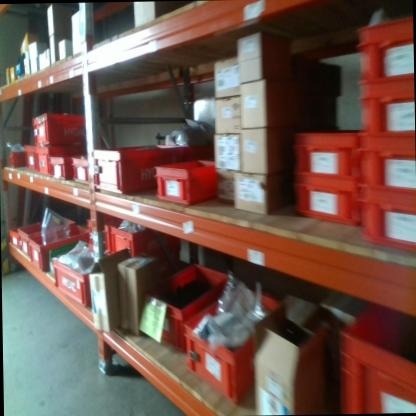small_load_carrier: (180, 271, 289, 407), (328, 299, 416, 412), (143, 257, 235, 350), (91, 137, 199, 201), (352, 9, 413, 86), (290, 168, 361, 229), (290, 124, 361, 179), (27, 220, 93, 279), (357, 83, 415, 149), (357, 190, 416, 254), (153, 152, 219, 207), (50, 250, 107, 312), (358, 138, 415, 197), (109, 220, 162, 268), (29, 111, 95, 143), (14, 218, 42, 263), (37, 145, 73, 178), (70, 148, 97, 188), (100, 214, 115, 251), (6, 225, 24, 253), (49, 154, 69, 179), (24, 140, 38, 174)
